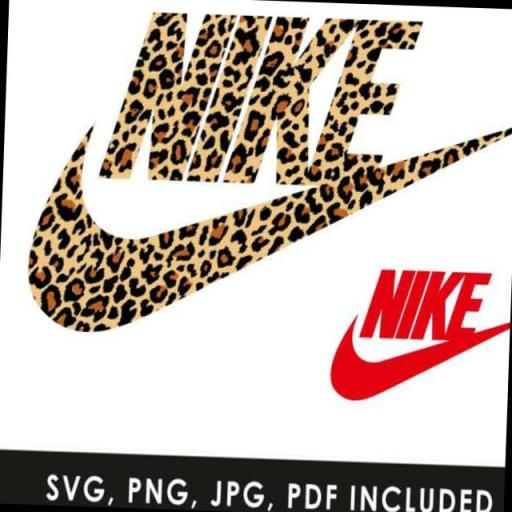Nike: (324, 330, 502, 404), (359, 266, 495, 348)
